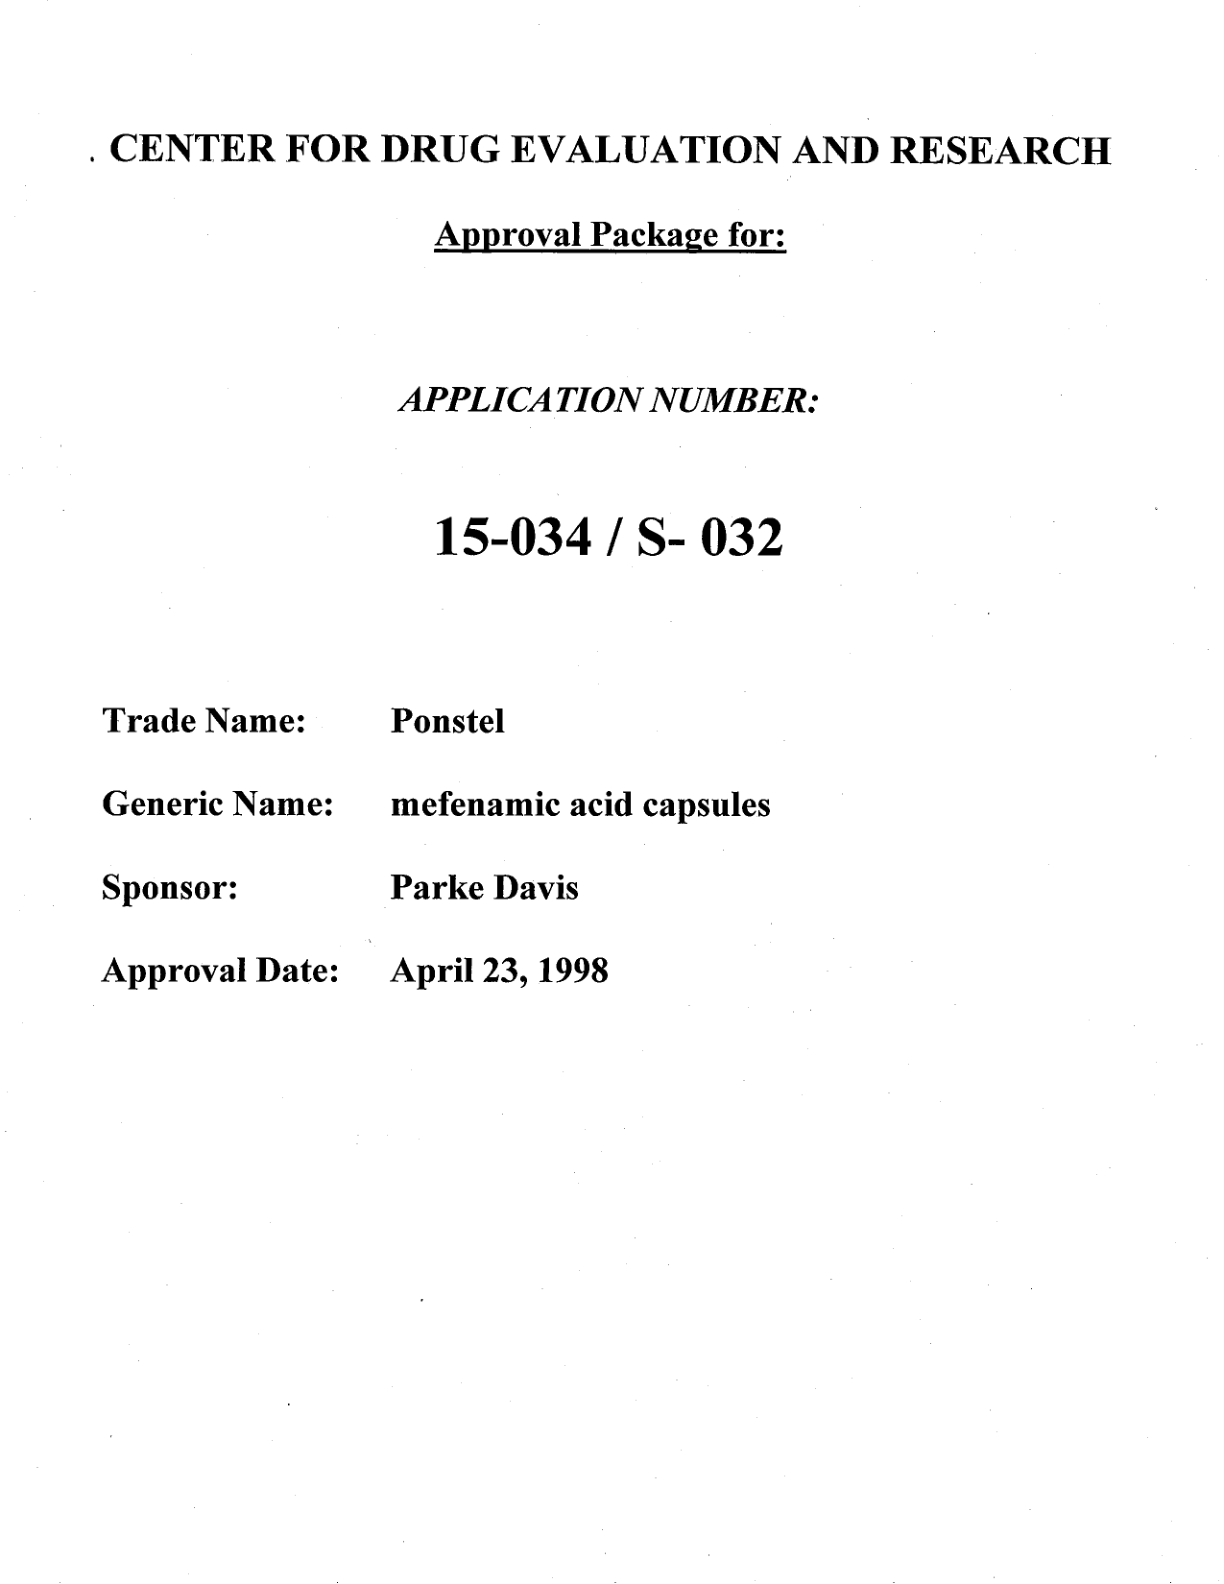nolines: (98, 701, 771, 990)
